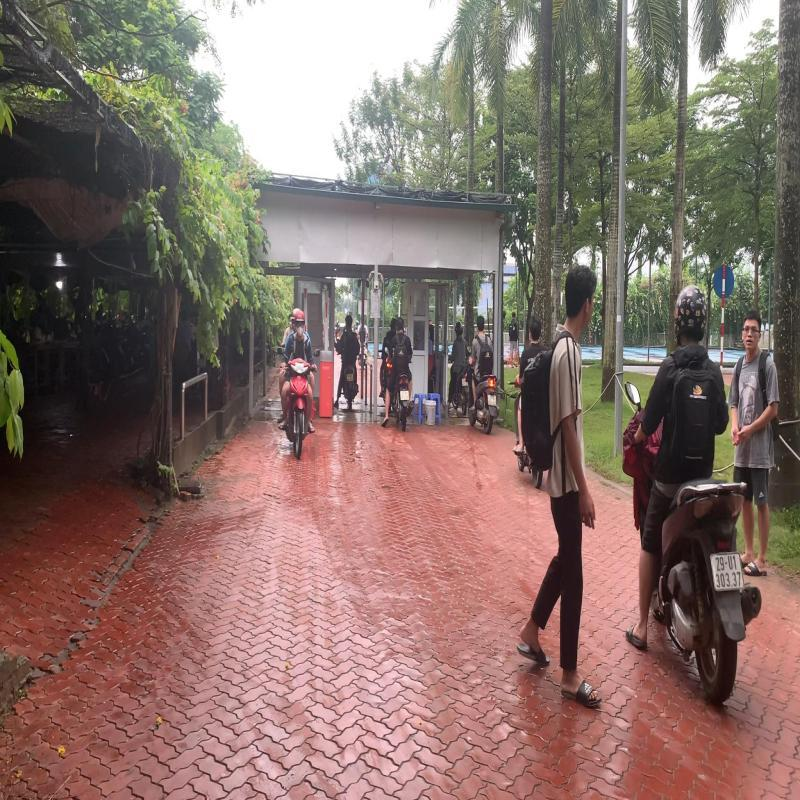nohelmet: (528, 313, 542, 345), (476, 316, 485, 334)
